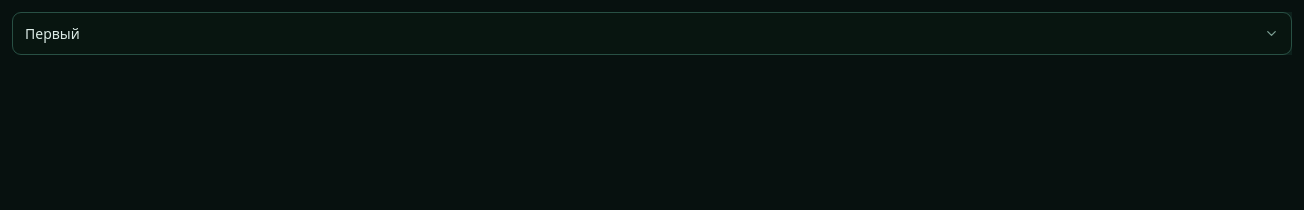
Test: StyledSelect › opens and moves focus through options with the keyboard
This screenshot has width=1304, height=210.
Press ArrowDown in the button with aria-label "Тестовый список", box 12,12 -> 1292,55
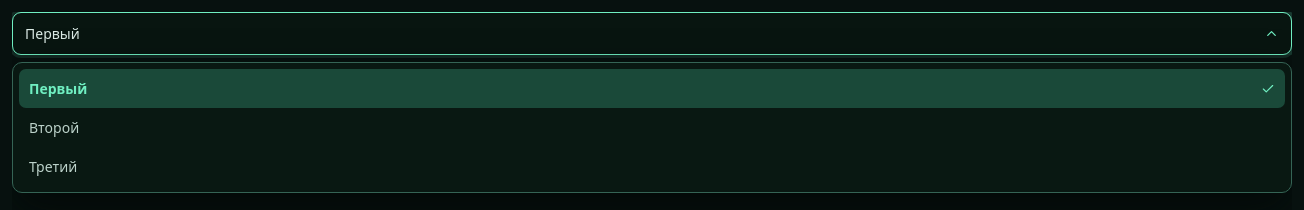
Press ArrowDown in the option "Первый", box 19,69 -> 1285,108
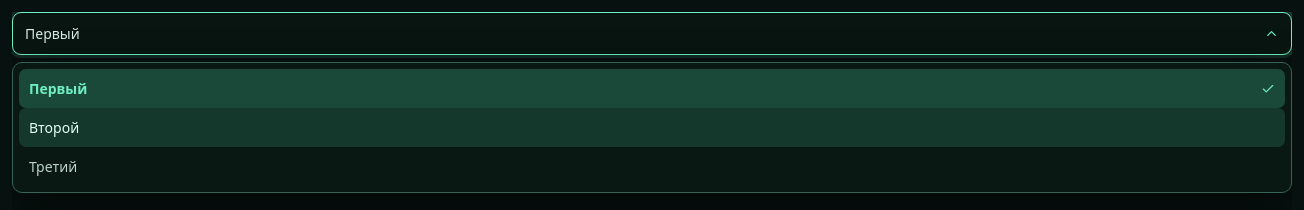
Click the option "Второй" at (54, 128), box 19,108 -> 1285,147
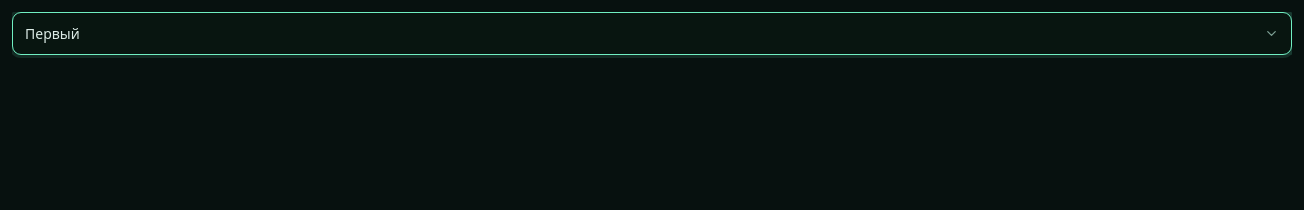
expect the list is gone: met
